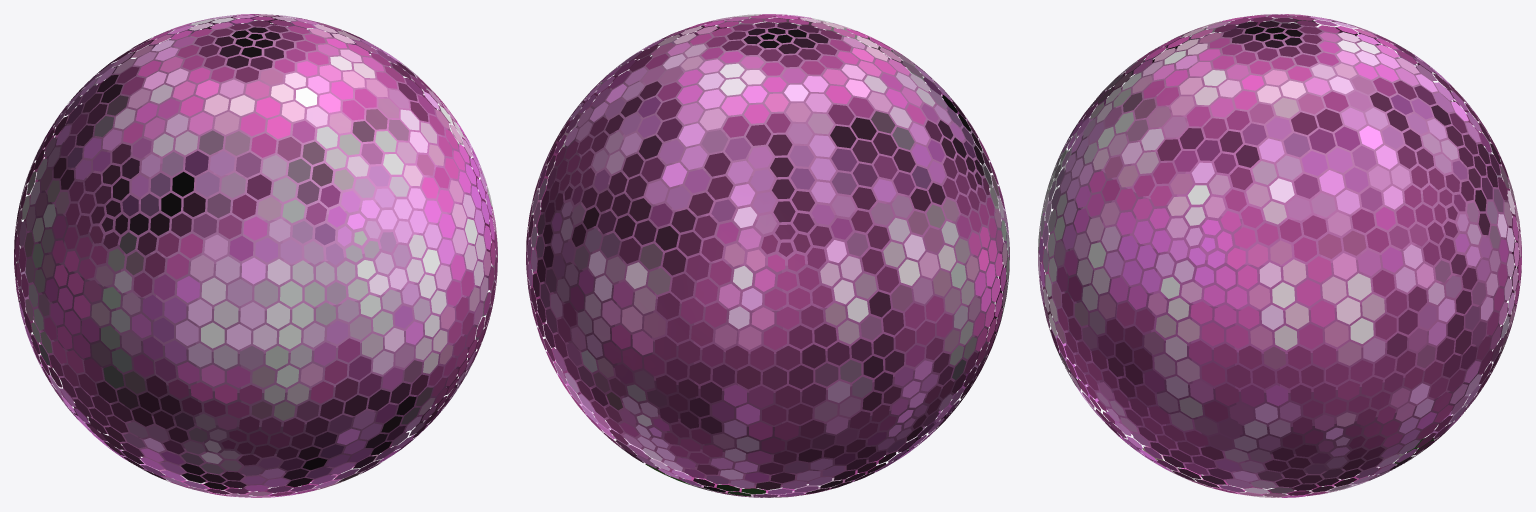
The model's file is magneto.fbx.
The picture shows the model from 3 angles, left to right: view 1: azimuth 30°, elevation 25°; view 2: azimuth 150°, elevation 25°; view 3: azimuth 270°, elevation 25°; orthographic projection.
Visible parts, largest first — view 1: magneto; view 2: magneto; view 3: magneto.
Boxes of the visible parts, box(x1,y1,x2,y2) form: magneto: box(14, 14, 497, 497); magneto: box(526, 14, 1009, 497); magneto: box(1038, 14, 1521, 497).
Size of the model in its own units: 218 by 218 by 218.
